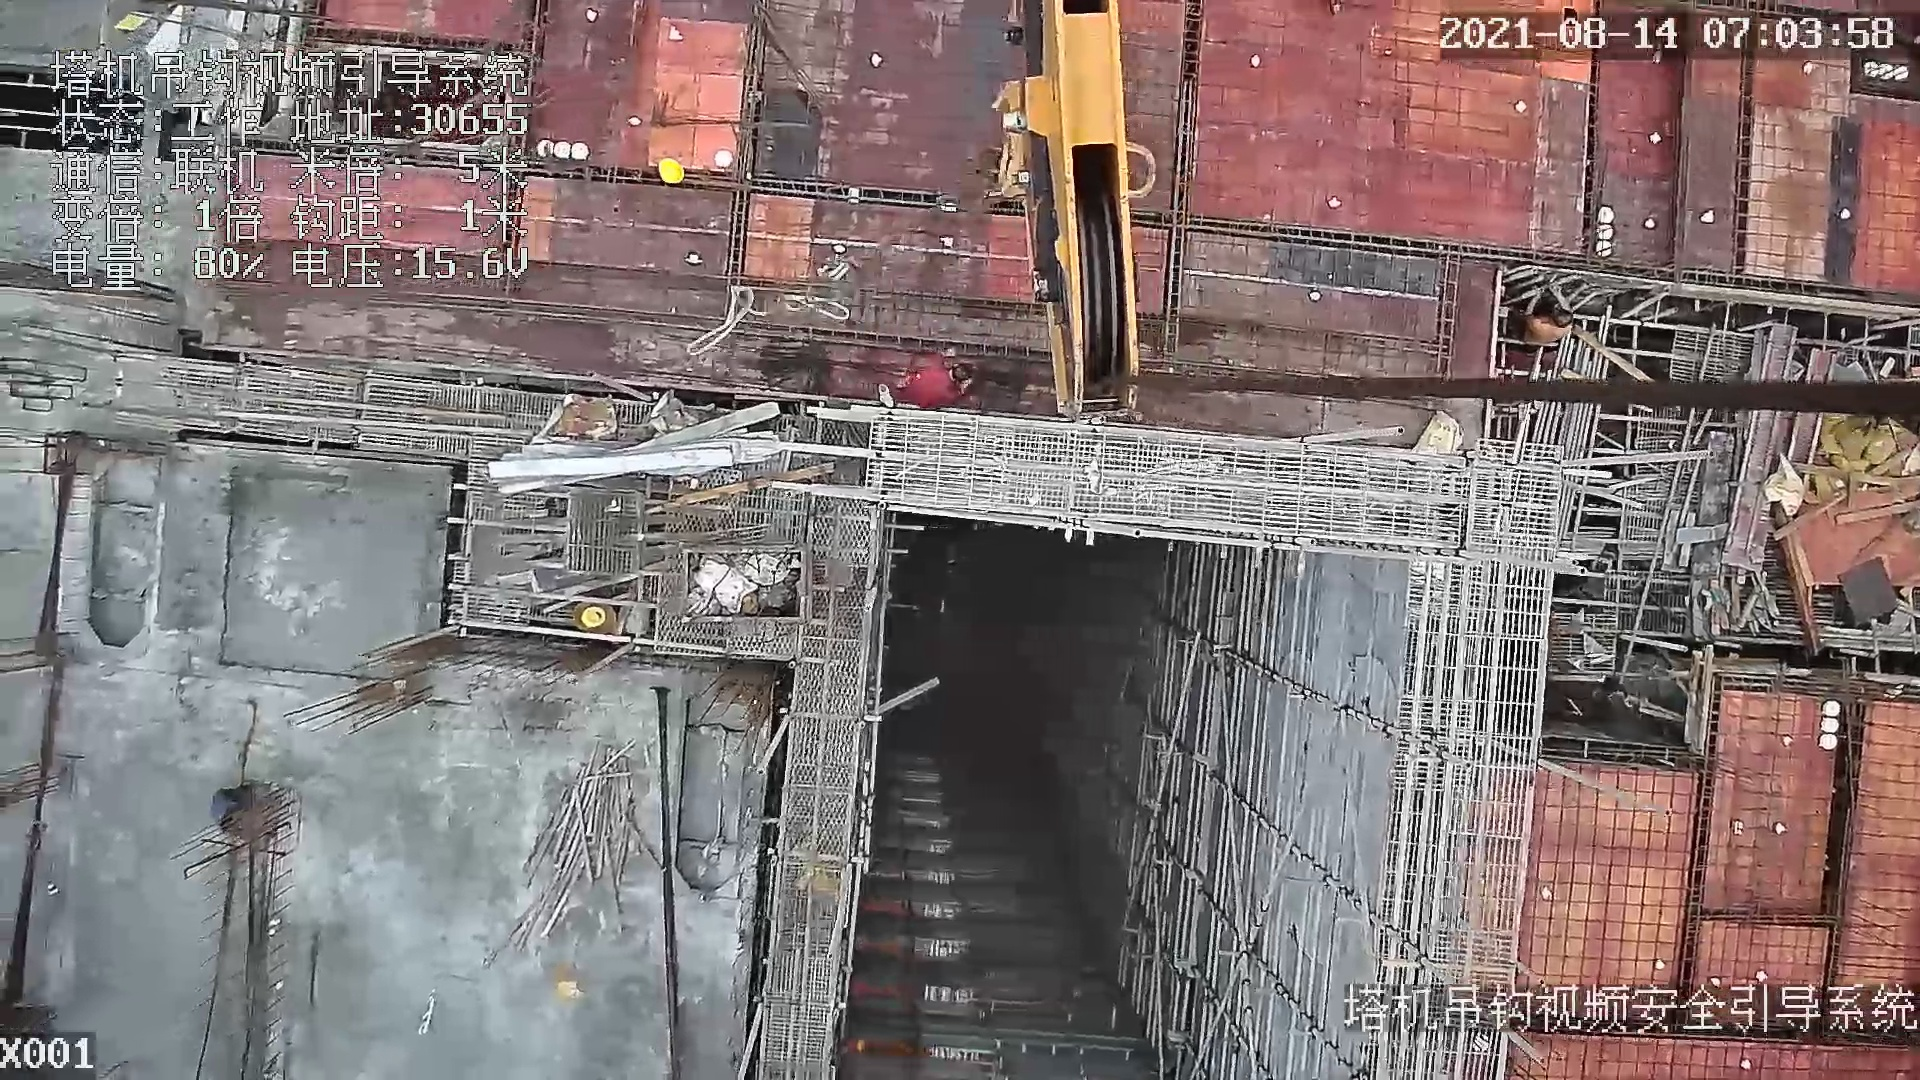helmet: (650, 149, 693, 190)
hook: (977, 1, 1158, 426)
person: (1521, 294, 1578, 350), (206, 782, 250, 830)
